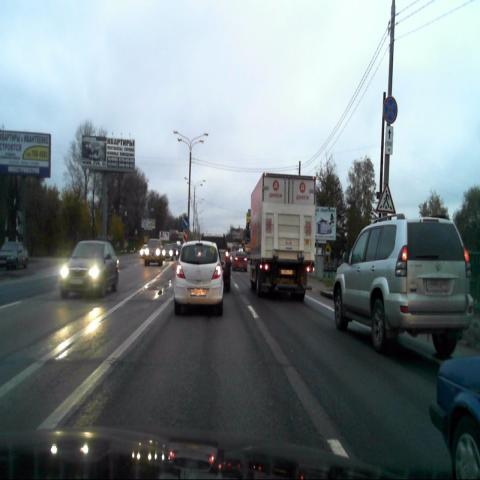3_27: (382, 96, 398, 123)
8_2_2: (385, 126, 393, 155)
